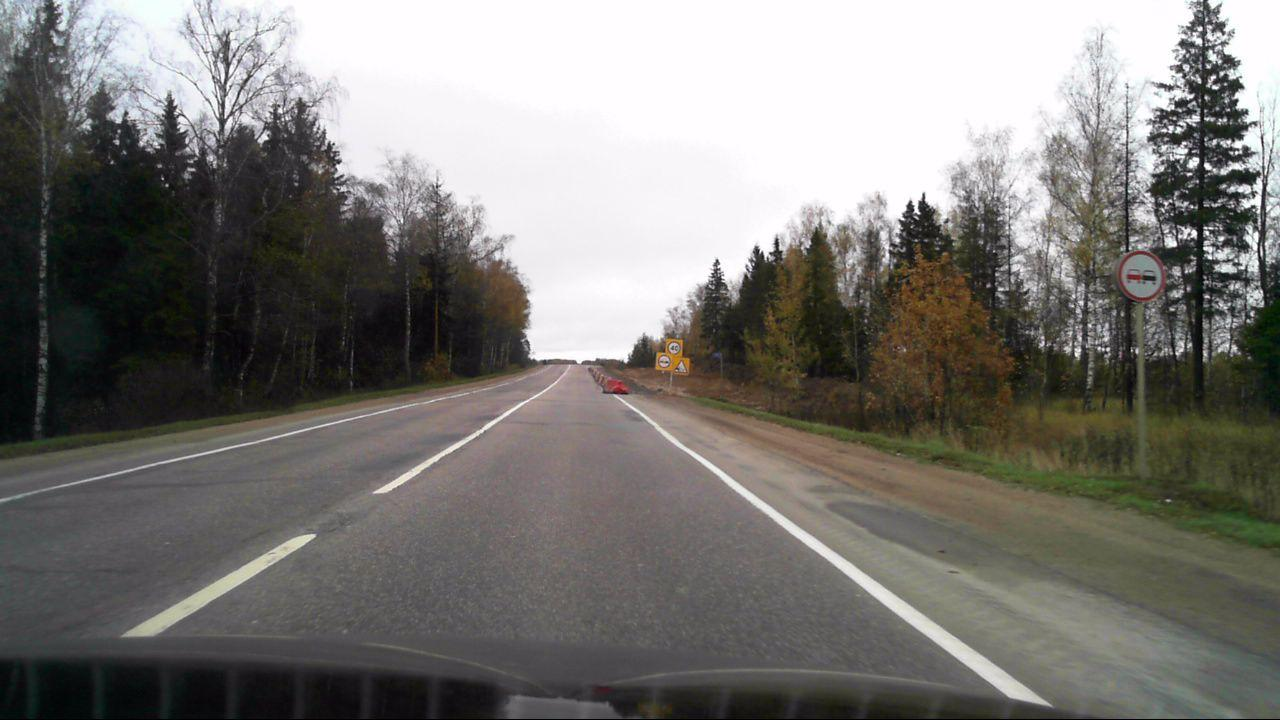1_18: (673, 358, 689, 374)
3_20: (1116, 249, 1166, 300), (657, 354, 671, 368)
3_24: (668, 341, 681, 354)
